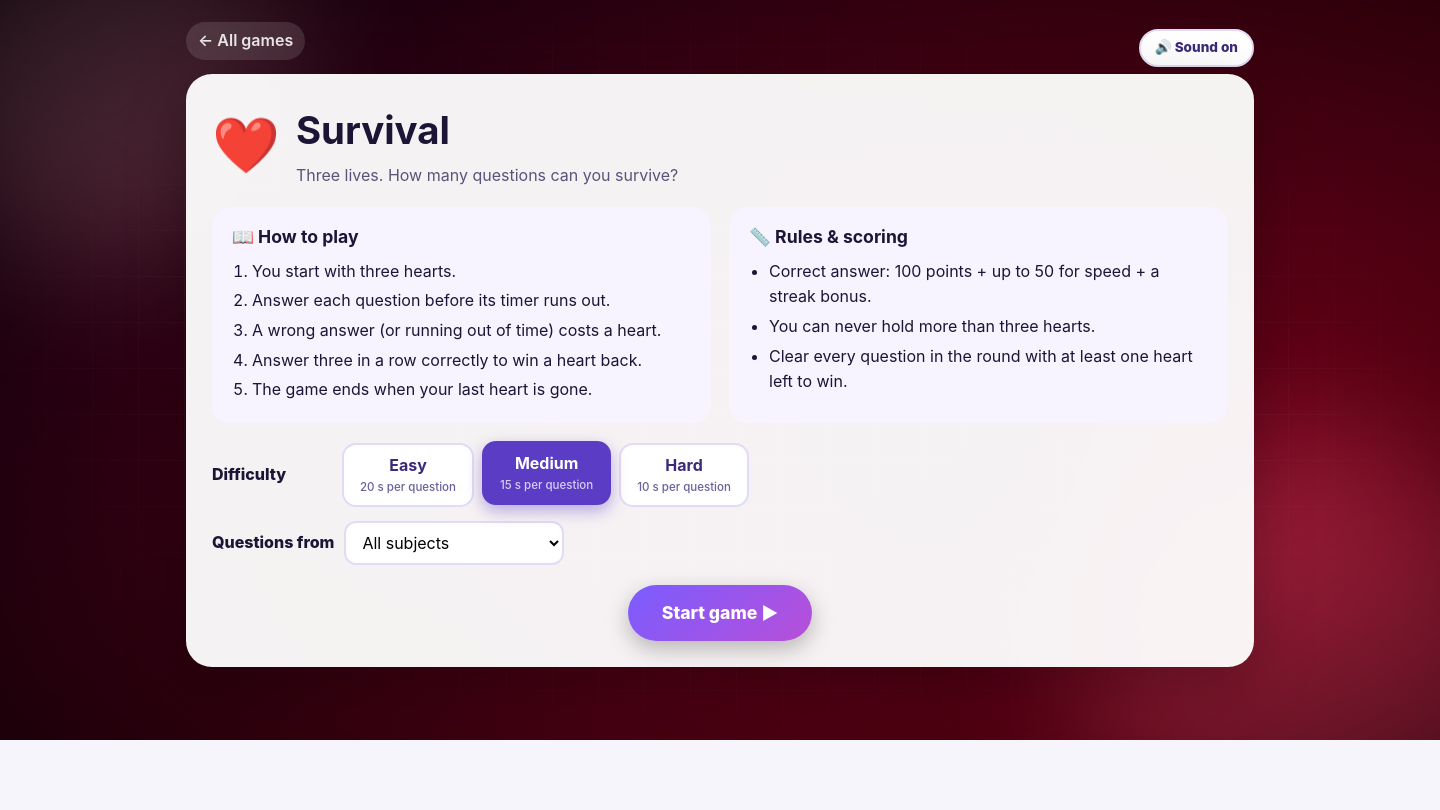
quiz games › Survival: a wrong answer costs a heart
Click the radio button labelled "Easy 20 s per question" at (408,475), box x1=342 y1=443 x2=474 y2=507
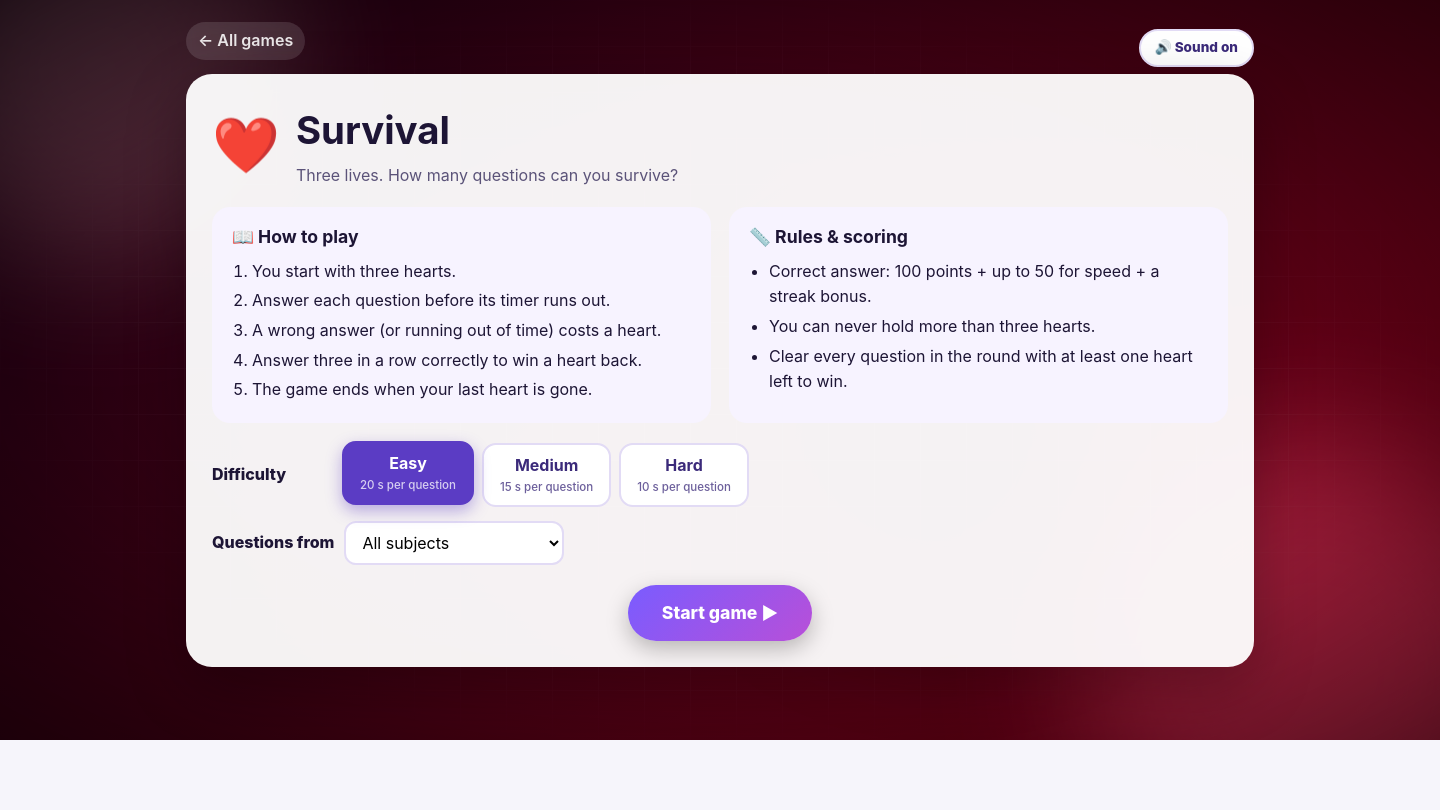
Click the button "Start game ▶" at (720,613), box x1=628 y1=585 x2=812 y2=641
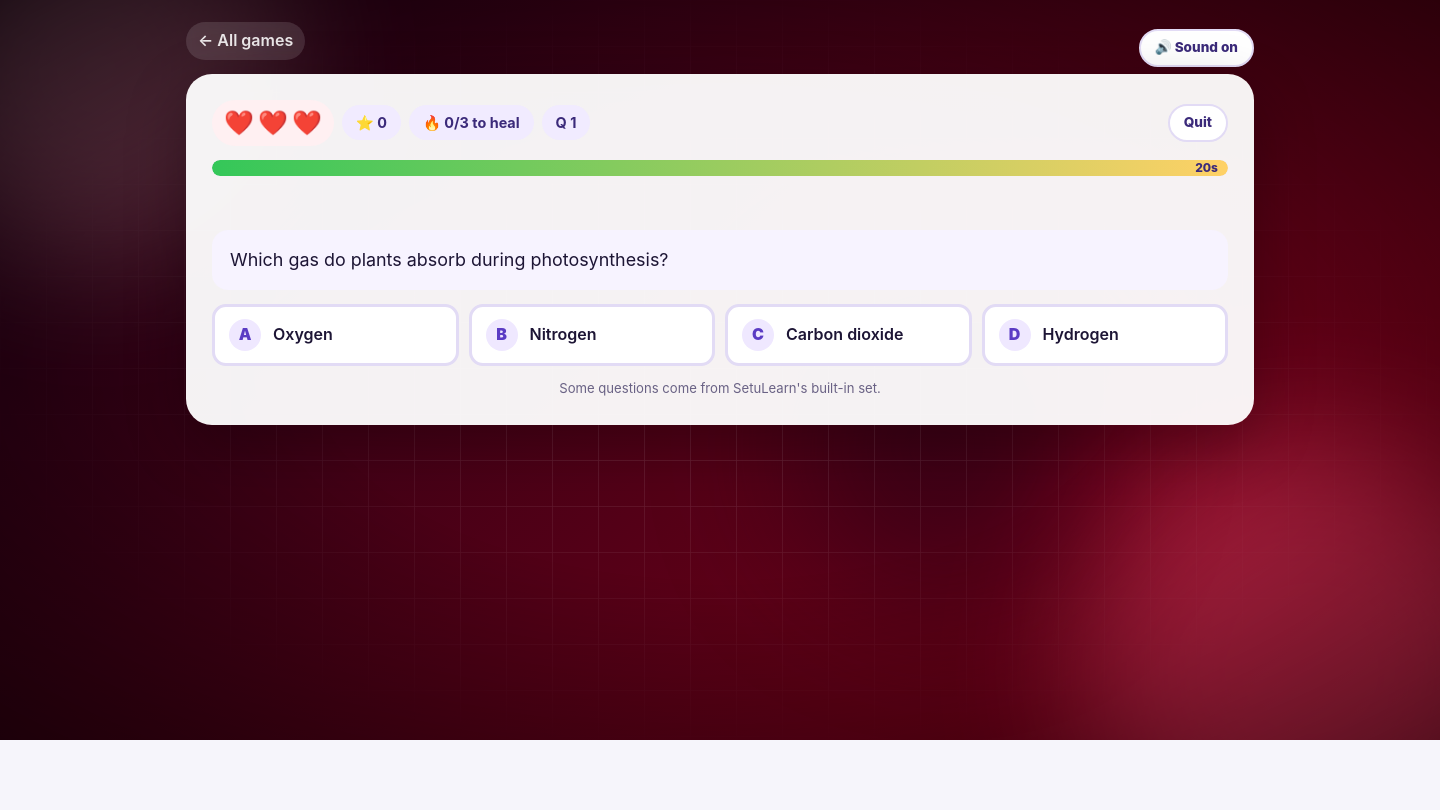
Expected: the element showing "Which gas do plants absorb during photosynthesis?" is shown, x1=212 y1=230 x2=1228 y2=290
Expected: the element named "3 lives left" is shown, x1=212 y1=100 x2=334 y2=146
Click the button with class "mcq-option" showing "A Oxygen" at (335,335), box x1=212 y1=304 x2=458 y2=366
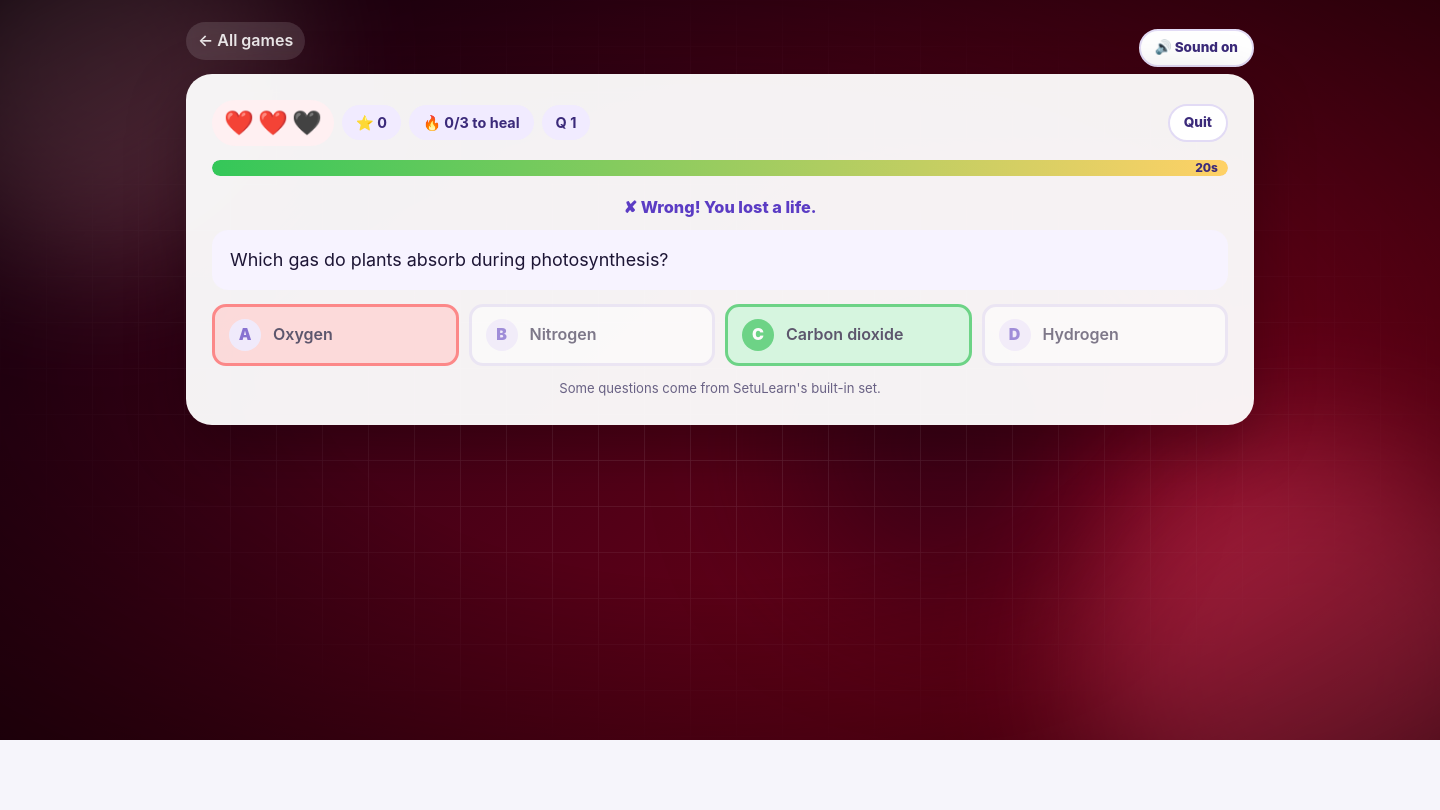
Expected: the element named "2 lives left" is shown, x1=212 y1=100 x2=334 y2=146
